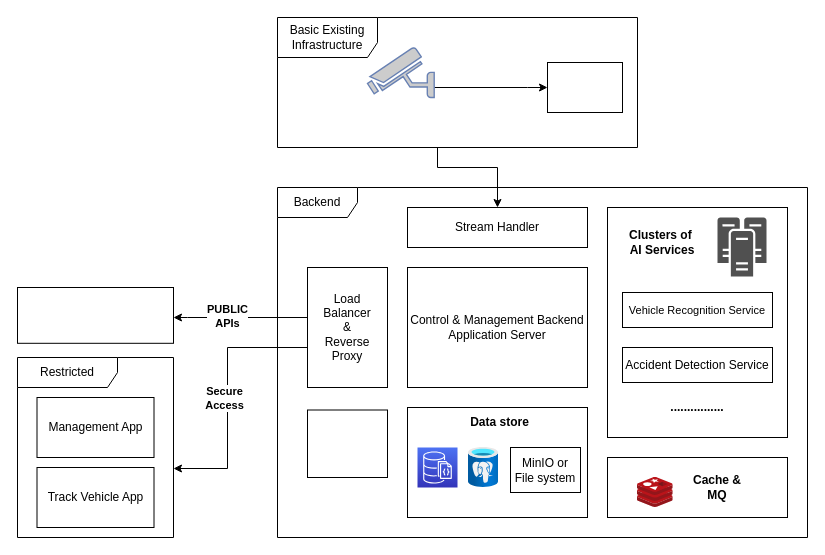
Image size: 825x555. Some labels were removed from this diagram. Here are the shapes that lost their labels. From the top down, the box of each, then its label:
(546, 62, 622, 112): NVR
(16, 286, 174, 343): Bus Tracker App
(306, 409, 388, 478): Notification Service
(416, 446, 458, 488): NoSQL
(468, 447, 498, 487): SQL
